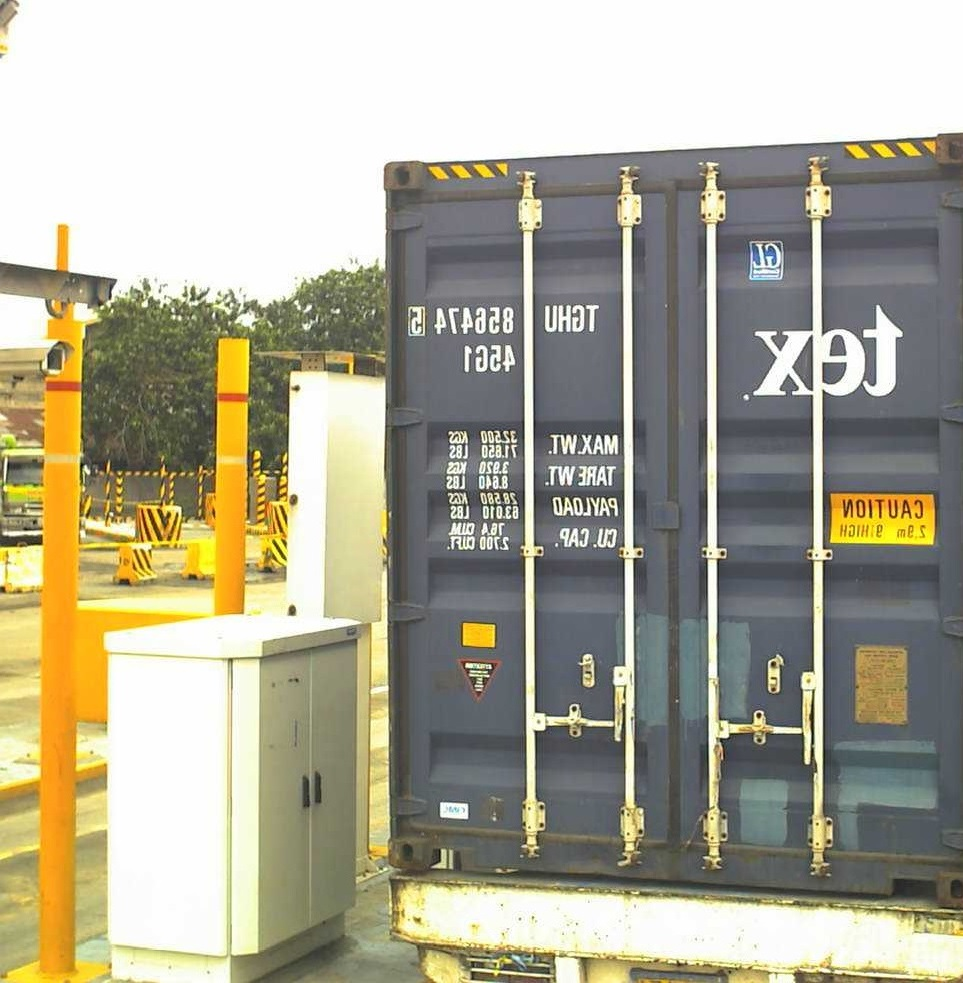container_door: (378, 132, 963, 911)
